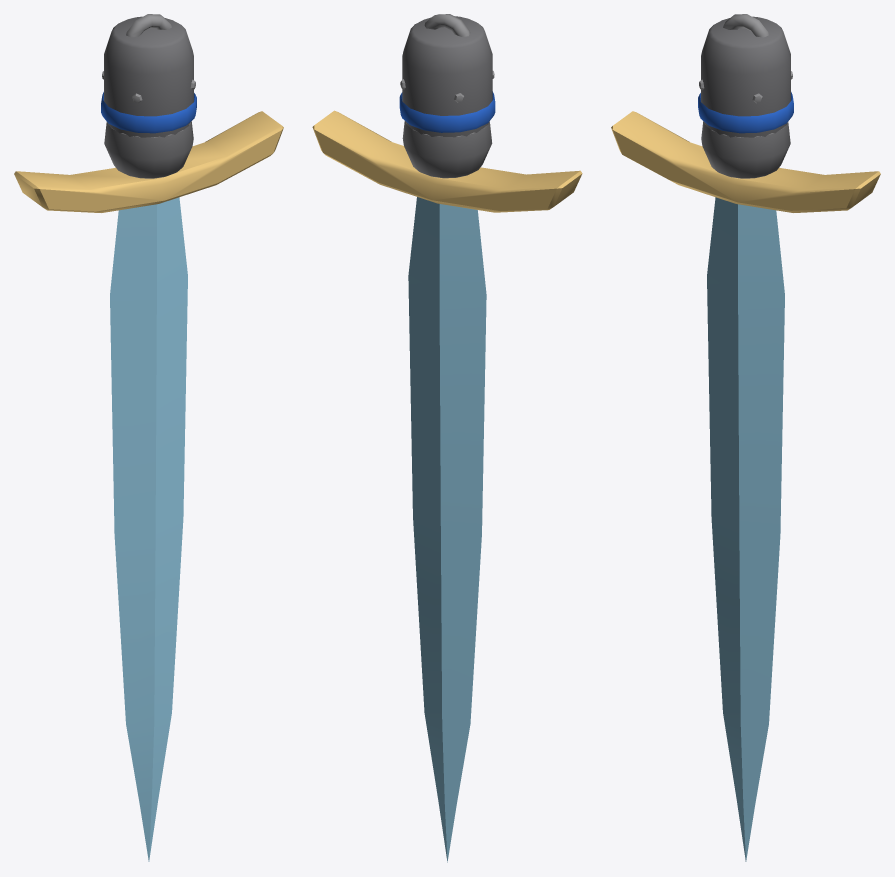
File: Kit_Blade_LeagueCrystal.glb
3 views of the same model, side by side, from view 1: azimuth 30°, elevation 25°; view 2: azimuth 150°, elevation 25°; view 3: azimuth 330°, elevation 25° (orthographic).
Parts seen in each view (by area): view 1: Kit_Blade_LeagueCrystal; view 2: Kit_Blade_LeagueCrystal; view 3: Kit_Blade_LeagueCrystal.
Part boxes in pixels (x1,y1,x2,y2): Kit_Blade_LeagueCrystal: (14,14,283,861); Kit_Blade_LeagueCrystal: (312,14,582,862); Kit_Blade_LeagueCrystal: (611,14,880,861).
Size of the model in its own units: 0.2176 by 0.7053 by 0.0728.
